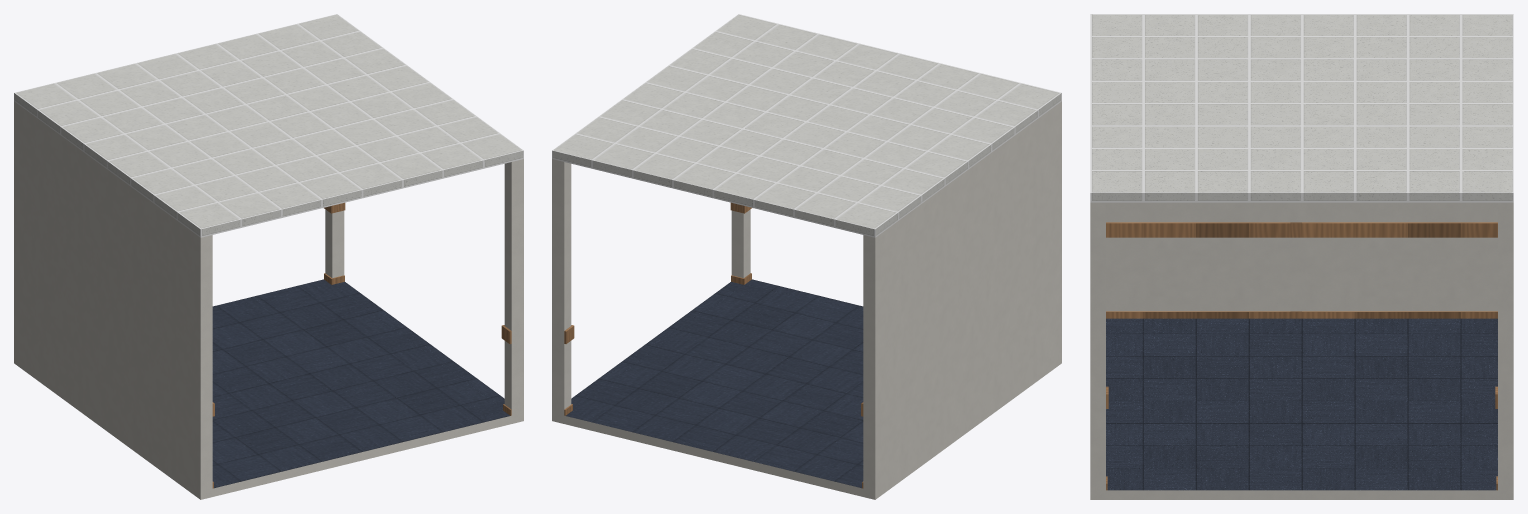
File: Corridor_Office_T.glb
The picture shows the model from 3 angles, left to right: view 1: azimuth 30°, elevation 25°; view 2: azimuth 150°, elevation 25°; view 3: azimuth 270°, elevation 25°; orthographic projection. The views are drawn at different scales.
Visible parts, largest first — view 1: Corridor_Office_T, Corridor_Office_T_Ceiling; view 2: Corridor_Office_T, Corridor_Office_T_Ceiling; view 3: Corridor_Office_T, Corridor_Office_T_Ceiling.
Boxes of the visible parts, <box> form: Corridor_Office_T: <box>14,101,523,499</box>; Corridor_Office_T_Ceiling: <box>14,14,523,237</box>; Corridor_Office_T: <box>552,101,1061,499</box>; Corridor_Office_T_Ceiling: <box>552,14,1061,237</box>; Corridor_Office_T: <box>1090,202,1513,499</box>; Corridor_Office_T_Ceiling: <box>1090,14,1513,202</box>.
Size of the model in its own units: 4 by 3.2 by 4.
6 materials, 4 textured.
